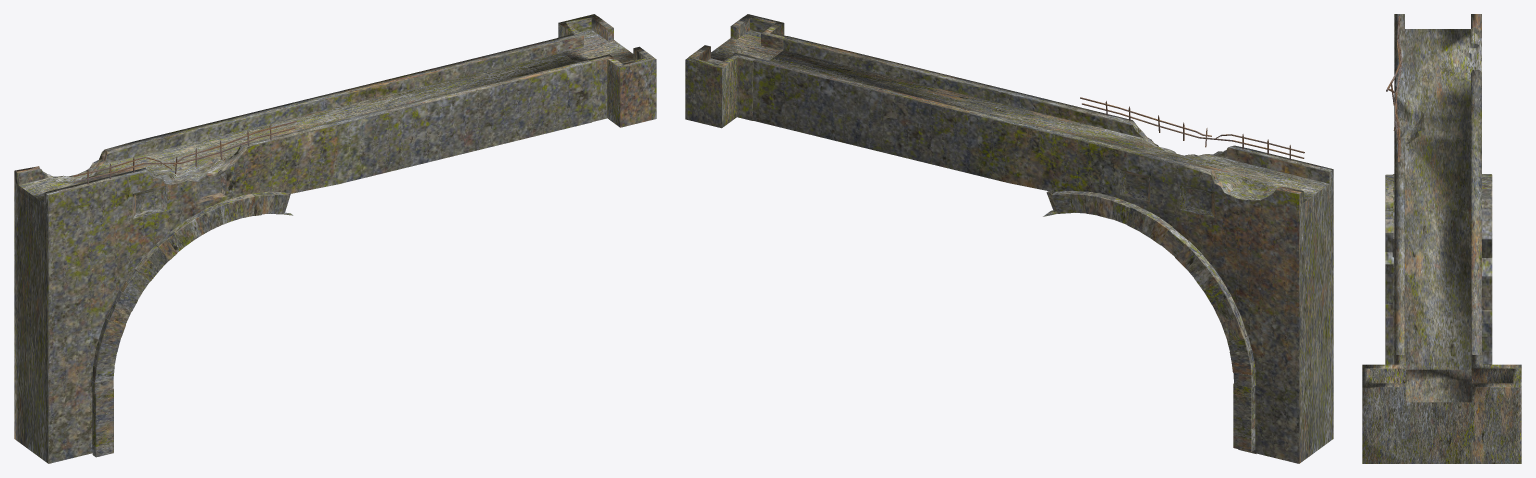
The model's file is archway.fbx.
The picture shows the model from 3 angles, left to right: view 1: azimuth 30°, elevation 25°; view 2: azimuth 150°, elevation 25°; view 3: azimuth 270°, elevation 25°; orthographic projection. The views are drawn at different scales.
Visible parts, largest first — view 1: Arch; view 2: Arch; view 3: Arch.
Boxes of the visible parts, x1,y1,x2,y2 form: Arch: (14, 14, 656, 463); Arch: (685, 14, 1333, 463); Arch: (1362, 14, 1521, 463).
Bounding box in the file's own units: 7013 × 3218 × 1264.
